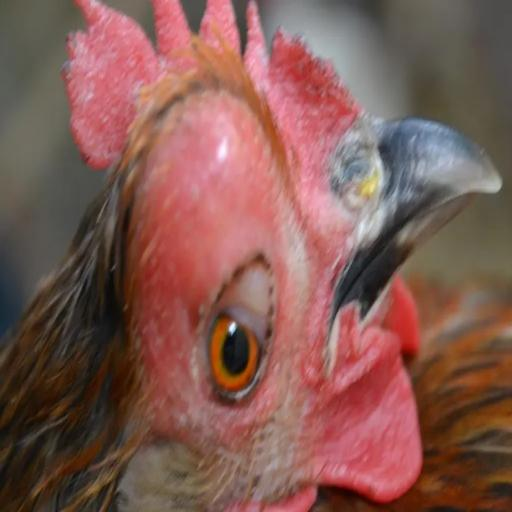disease: (144, 106, 295, 428)
